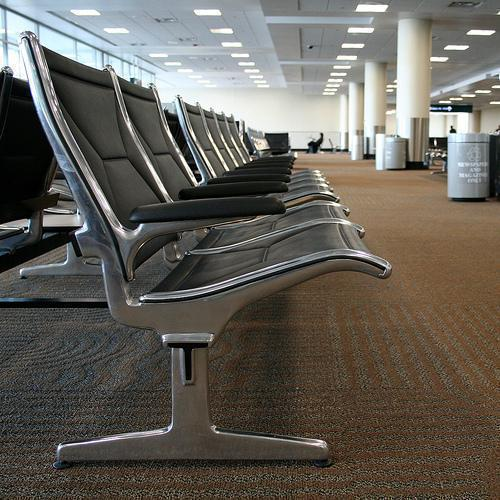Bote de Basura: (444, 128, 496, 207), (384, 135, 407, 170)
